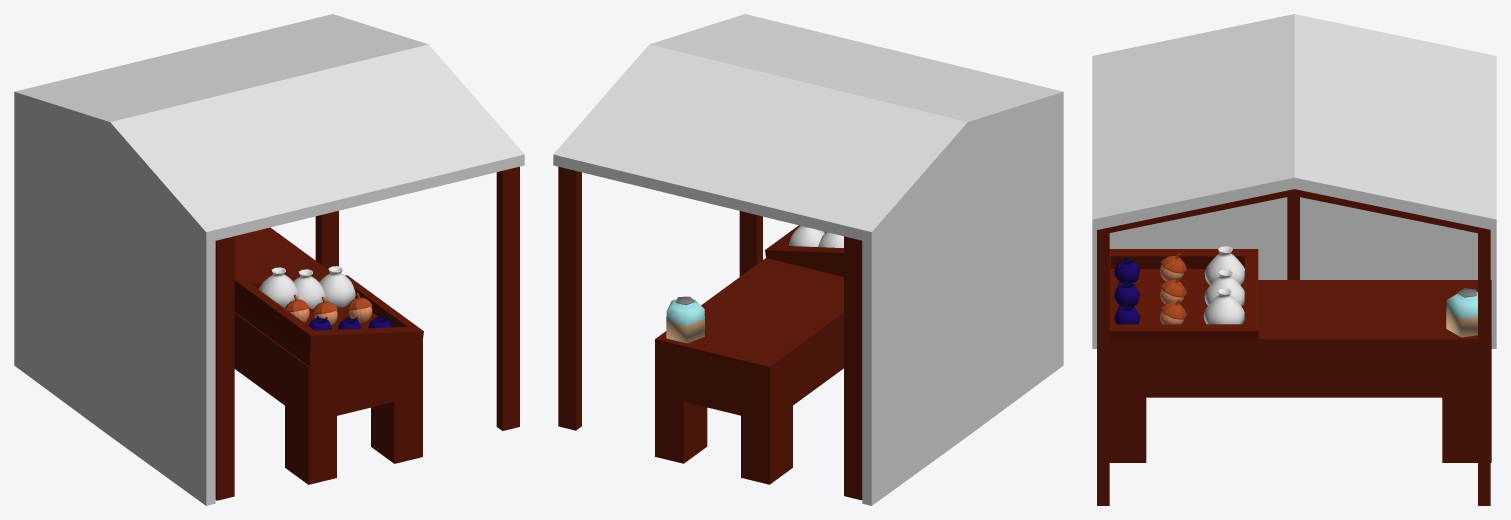
Rendered from MarketStall_Pyramid.fbx.
3 renders of one model, left to right at view 1: azimuth 30°, elevation 25°; view 2: azimuth 150°, elevation 25°; view 3: azimuth 270°, elevation 25°, orthographic. The views are drawn at different scales.
Parts seen in each view (by area): view 1: Cube, Cube.011, Cube.013, Cube.005, Cube.004, Cube.002, Cube.031, Cube.034, Cube.032; view 2: Cube, Cube.011, Cube.002, Cube.003, Cube.013, Cylinder.006, Cube.005, Cube.031; view 3: Cube, Cube.011, Cube.013, Cube.002, Cube.005, Cylinder.006, Cube.027, Cube.026, Cube.031, Cube.022, Cube.034, Cube.032 (+5 smaller).
Boxes of the visible parts, <box> form: Cube: <box>14,14,524,505</box>; Cube.011: <box>234,227,422,484</box>; Cube.013: <box>234,275,423,401</box>; Cube.005: <box>496,166,519,430</box>; Cube.004: <box>215,236,234,500</box>; Cube.002: <box>315,211,338,269</box>; Cube.031: <box>319,266,355,307</box>; Cube.034: <box>259,267,298,308</box>; Cube.032: <box>293,269,325,308</box>; Cube: <box>553,14,1063,505</box>; Cube.011: <box>655,258,843,484</box>; Cube.002: <box>558,166,581,430</box>; Cube.003: <box>844,236,862,500</box>; Cube.013: <box>765,225,843,276</box>; Cylinder.006: <box>666,296,704,343</box>; Cube.005: <box>739,211,762,276</box>; Cube.031: <box>789,226,824,246</box>; Cube: <box>1092,14,1496,348</box>; Cube.011: <box>1109,280,1491,462</box>; Cube.013: <box>1109,249,1258,338</box>; Cube.002: <box>1478,227,1490,505</box>; Cube.005: <box>1097,227,1109,505</box>; Cylinder.006: <box>1446,288,1477,337</box>; Cube.027: <box>1300,190,1477,233</box>; Cube.026: <box>1109,190,1287,232</box>; Cube.031: <box>1203,288,1244,324</box>; Cube.022: <box>1287,200,1299,279</box>; Cube.034: <box>1204,246,1244,285</box>; Cube.032: <box>1204,269,1244,306</box>.
Bounding box in the file's own units: 556 × 533 × 580.
